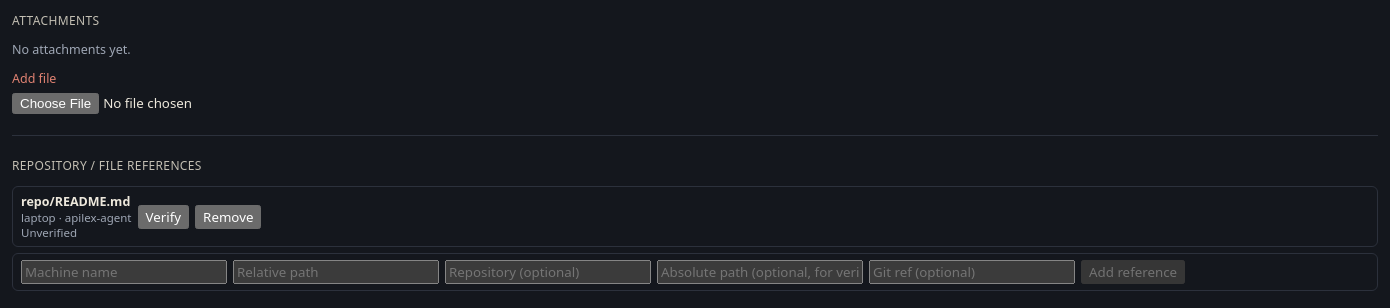
Test: FilesPanel › verifies a reference with an absolute_path and shows the updated status
Expected: the text "repo/README.md" is shown, [21,193,132,210]
Click the button "Verify".
click(163, 216)  # box [138,204,189,228]
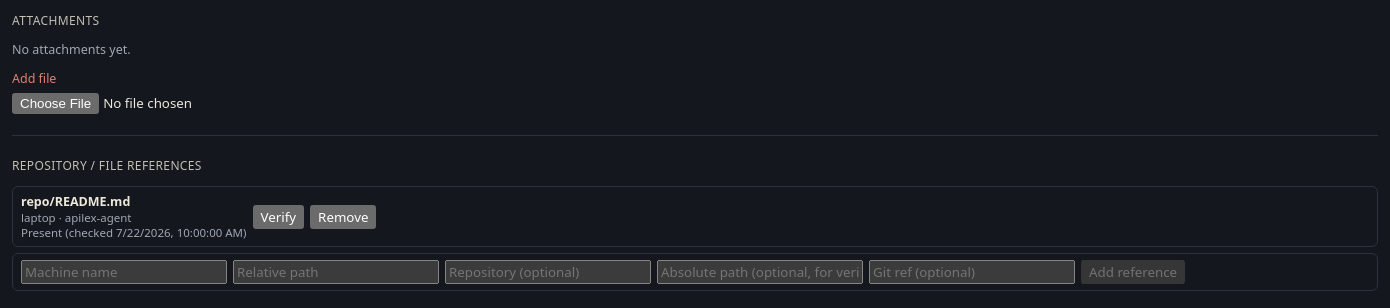
Expected: the text "Present (checked 7/22/2026, 10:00:00 AM)" is shown, [21,225,246,240]
